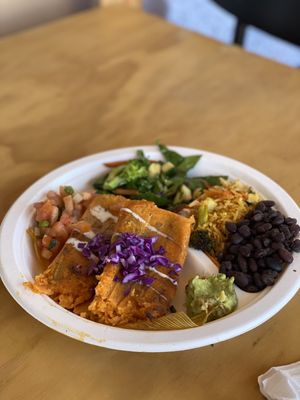curry: (185, 273, 238, 323)
sushi: (3, 141, 300, 367)
